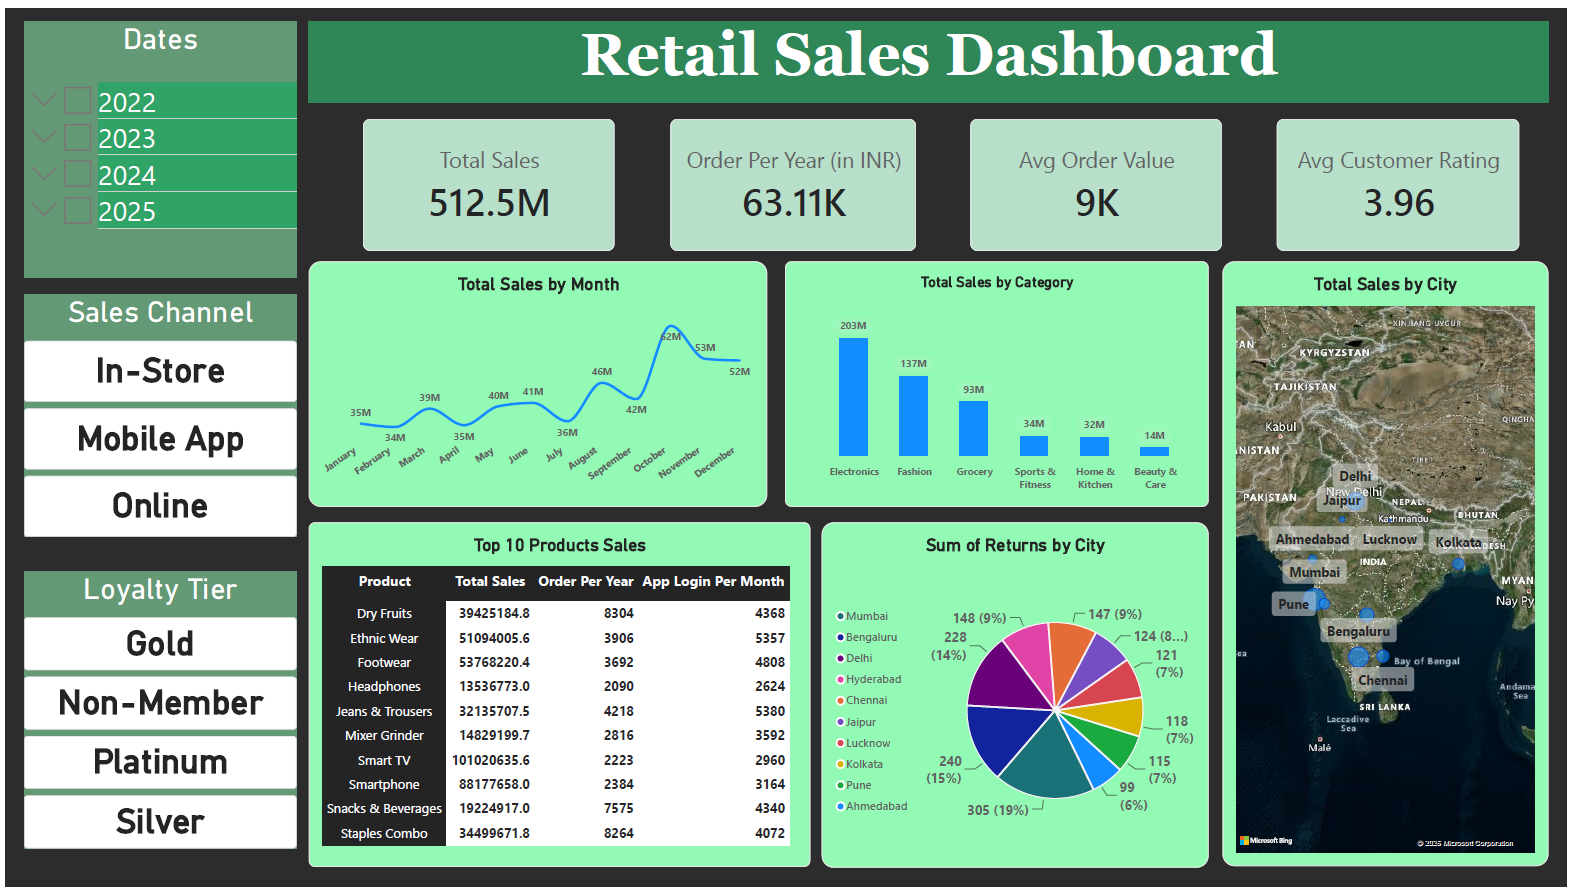

Layout of this report page (visuals, bound fields, positions):
{"tool":"powerbi","page":{"name":"Page 1","canvas":[1920,1080],"ordinal":0},"visuals":[{"type":"cardVisual","fields":{"Data":["11_Retail_Sales_Dashboard_Cleaned.Total Sales"]},"box":[439.7,135.7,309.5,162.9],"z":0},{"type":"cardVisual","fields":{"Data":["11_Retail_Sales_Dashboard_Cleaned.Avg Customer Rating"]},"box":[1563.5,135.7,298.6,162.9],"z":1000},{"type":"cardVisual","fields":{"Data":["11_Retail_Sales_Dashboard_Cleaned.Avg Order Value"]},"box":[1187.1,135.7,309.5,162.9],"z":2000},{"type":"cardVisual","fields":{"Data":["11_Retail_Sales_Dashboard_Cleaned.Order Per Year"]},"box":[818,135.7,302.2,162.9],"z":3000},{"type":"textbox","box":[372.8,16.3,1525.5,99.5],"z":4000},{"type":"slicer","title":"Dates","fields":{"Values":["11_Retail_Sales_Dashboard_Cleaned.Order_Date.Variation.Date Hierarchy.Year","11_Retail_Sales_Dashboard_Cleaned.Order_Date.Variation.Date Hierarchy.Month"]},"box":[22.6,16.5,335.5,314.9],"z":5000},{"type":"advancedSlicerVisual","fields":{"Values":["11_Retail_Sales_Dashboard_Cleaned.Channel"]},"box":[22.6,352,335.5,298.5],"z":6000},{"type":"advancedSlicerVisual","fields":{"Values":["11_Retail_Sales_Dashboard_Cleaned.Loyalty_Tier"]},"box":[22.6,691.6,335.5,341.7],"z":7000},{"type":"lineChart","fields":{"Category":["11_Retail_Sales_Dashboard_Cleaned.Order_Date.Variation.Date Hierarchy.Year","11_Retail_Sales_Dashboard_Cleaned.Order_Date.Variation.Date Hierarchy.Month"],"Y":["11_Retail_Sales_Dashboard_Cleaned.Total Sales"]},"box":[372.8,311.3,564.6,302.2],"z":8000},{"type":"map","fields":{"Category":["11_Retail_Sales_Dashboard_Cleaned.City"],"Size":["11_Retail_Sales_Dashboard_Cleaned.Total Sales"]},"box":[1496.6,311.3,401.7,743.8],"z":9000},{"type":"clusteredColumnChart","fields":{"Category":["11_Retail_Sales_Dashboard_Cleaned.Category"],"Y":["11_Retail_Sales_Dashboard_Cleaned.Total Sales"]},"box":[959.1,311.3,521.2,302.2],"z":10000},{"type":"pivotTable","title":"Top 10 Products Sales","fields":{"Rows":["11_Retail_Sales_Dashboard_Cleaned.Product"],"Values":["11_Retail_Sales_Dashboard_Cleaned.Total Sales","11_Retail_Sales_Dashboard_Cleaned.Order Per Year","Sum(11_Retail_Sales_Dashboard_Cleaned.App_Logins_Month)"]},"box":[372.6,631.9,617.5,424],"z":11000},{"type":"pieChart","fields":{"Category":["11_Retail_Sales_Dashboard_Cleaned.City"],"Y":["Sum(11_Retail_Sales_Dashboard_Cleaned.Returns)"]},"box":[1004.4,631.6,475.9,425.3],"z":12000}]}

Visuals, with their boxes in screenshot pixels (x1, y1, x2, y2), scaled from the page's 1920x1080 canvas onto the 1571x891 screenshot:
cardVisual - 11_Retail_Sales_Dashboard_Cleaned.Total Sales: (360,112,613,246)
cardVisual - 11_Retail_Sales_Dashboard_Cleaned.Avg Customer Rating: (1279,112,1524,246)
cardVisual - 11_Retail_Sales_Dashboard_Cleaned.Avg Order Value: (971,112,1225,246)
cardVisual - 11_Retail_Sales_Dashboard_Cleaned.Order Per Year: (669,112,917,246)
textbox: (305,13,1553,96)
"Dates" slicer: (18,14,293,273)
advancedSlicerVisual - 11_Retail_Sales_Dashboard_Cleaned.Channel: (18,290,293,537)
advancedSlicerVisual - 11_Retail_Sales_Dashboard_Cleaned.Loyalty_Tier: (18,571,293,852)
lineChart - 11_Retail_Sales_Dashboard_Cleaned.Order_Date.Variation.Date Hierarchy.Year x 11_Retail_Sales_Dashboard_Cleaned.Order_Date.Variation.Date Hierarchy.Month: (305,257,767,506)
map - 11_Retail_Sales_Dashboard_Cleaned.City x 11_Retail_Sales_Dashboard_Cleaned.Total Sales: (1225,257,1553,870)
clusteredColumnChart - 11_Retail_Sales_Dashboard_Cleaned.Category x 11_Retail_Sales_Dashboard_Cleaned.Total Sales: (785,257,1211,506)
"Top 10 Products Sales" pivotTable: (305,521,810,871)
pieChart - 11_Retail_Sales_Dashboard_Cleaned.City x Sum(11_Retail_Sales_Dashboard_Cleaned.Returns): (822,521,1211,872)
